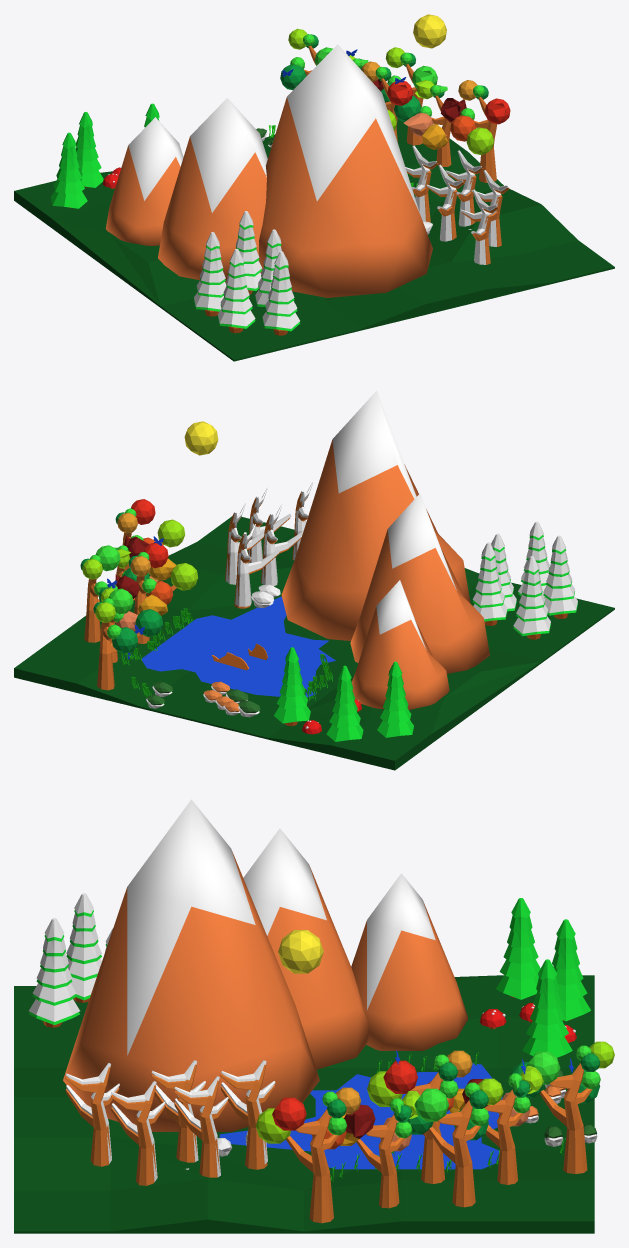
Rendered from bosco incantato.dae.
The picture shows the model from 3 angles, top to bottom: view 1: azimuth 30°, elevation 25°; view 2: azimuth 150°, elevation 25°; view 3: azimuth 270°, elevation 25°; orthographic projection. The views are drawn at different scales.
Parts seen in each view (by area): view 1: bosco incantato; view 2: bosco incantato; view 3: bosco incantato.
Part boxes in pixels (x1,y1,x2,y2): bosco incantato: (14,14,614,361); bosco incantato: (14,390,614,770); bosco incantato: (14,799,614,1233).
Size of the model in its own units: 25.39 by 26.27 by 14.82.
